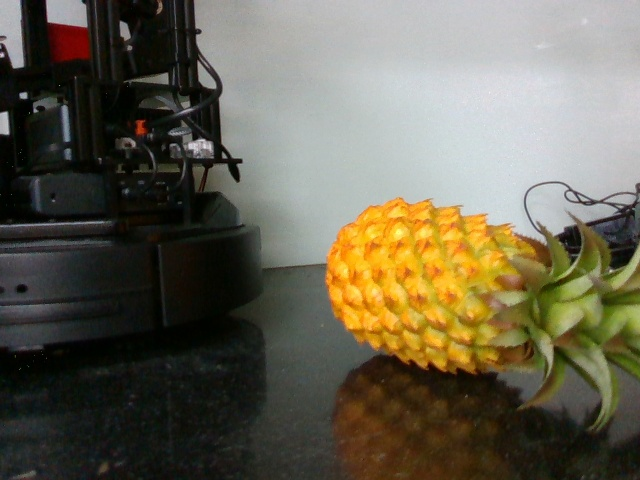pineapple: (322, 191, 640, 413)
